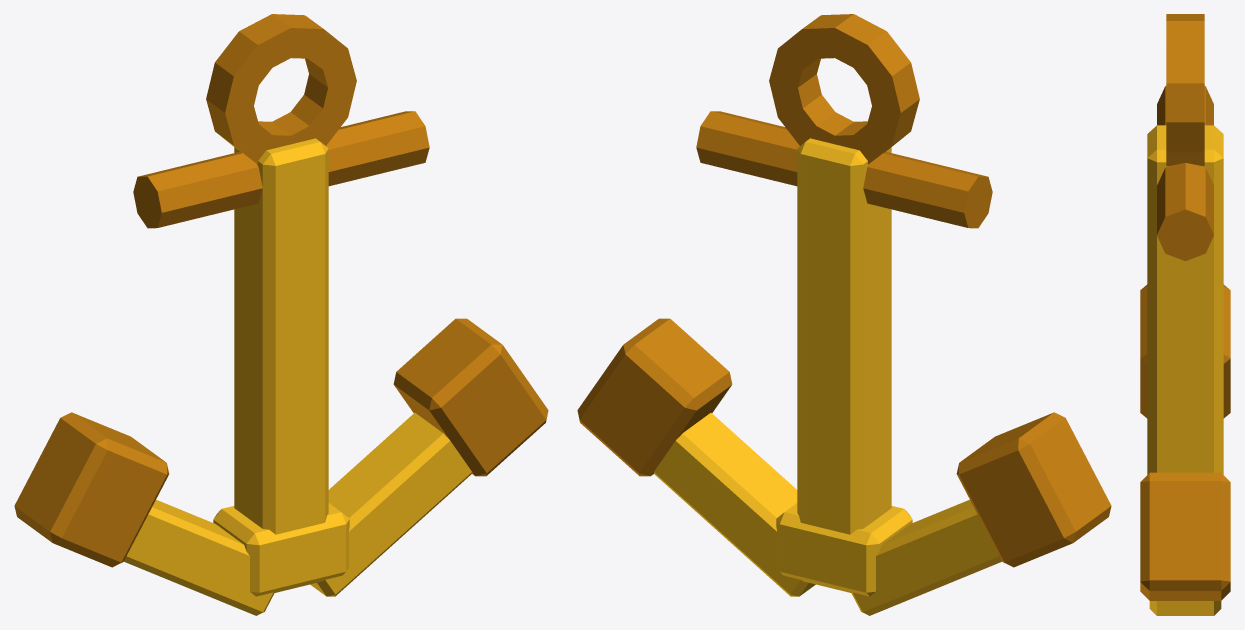
Rendered from item_anchor_gold.fbx.
3 views of the same model, side by side, from view 1: azimuth 30°, elevation 25°; view 2: azimuth 150°, elevation 25°; view 3: azimuth 270°, elevation 25° (orthographic).
Parts seen in each view (by area): view 1: item_anchor_gold; view 2: item_anchor_gold; view 3: item_anchor_gold.
Part boxes in pixels (bbox=[...]): item_anchor_gold: bbox=[14, 14, 548, 615]; item_anchor_gold: bbox=[577, 14, 1111, 615]; item_anchor_gold: bbox=[1140, 14, 1230, 615].
Bounding box in the file's own units: 2.42 × 2.67 × 0.38.
